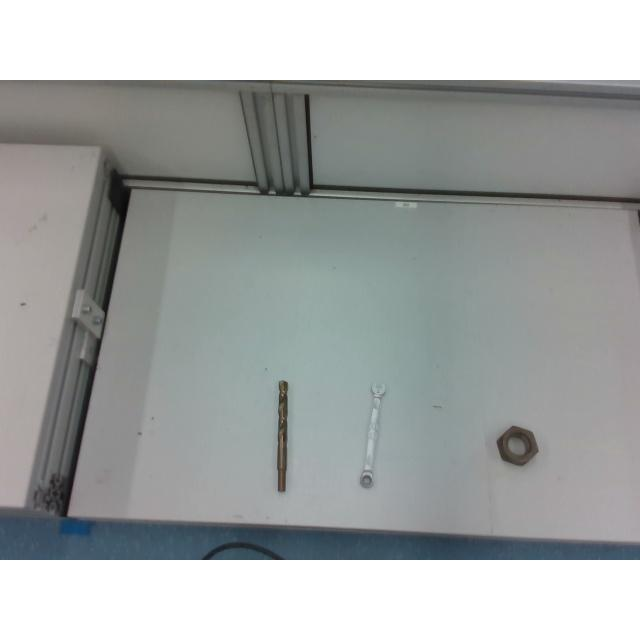Drill: (278, 381, 290, 492)
M30: (496, 424, 540, 468)
Wrench: (358, 382, 386, 486)
